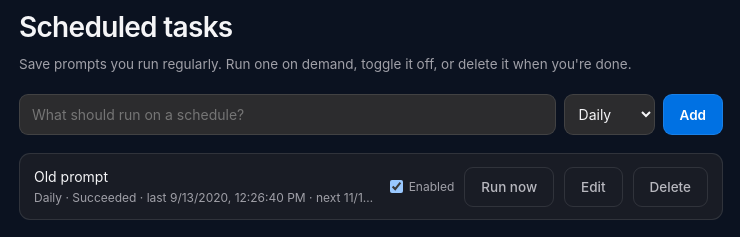
Test: ScheduledView › edits a task via update_scheduled and reconciles
Expected: the text "Old prompt" is shown, [34, 168, 108, 185]
Step 1. Click the button "Edit" → click(593, 187), box [564, 167, 623, 207]
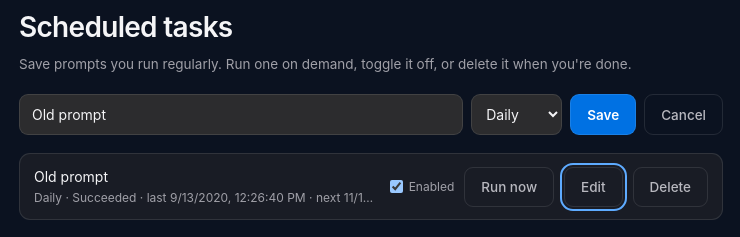
Step 2. Replace the text in the field with placeholder "What should run on a schedule?" with "New prompt" → (241, 115), box [19, 94, 463, 135]
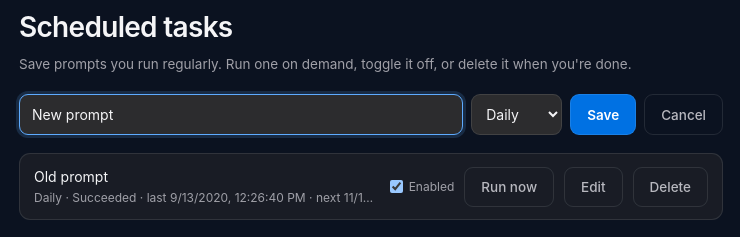
Step 3. Select "Weekly" in the dropdown named "cadence" → (517, 115), box [471, 94, 562, 135]
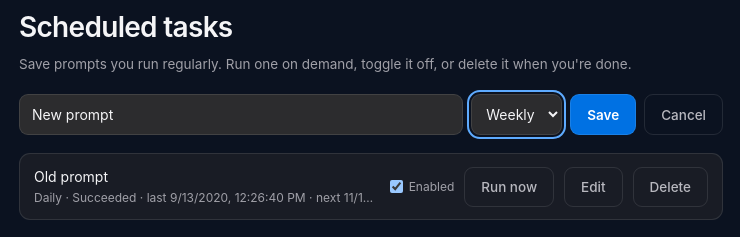
Step 4. Click the button "Save" → click(603, 115), box [570, 94, 636, 135]
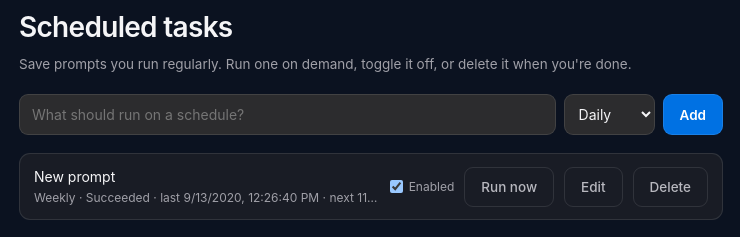
Expected: the text "New prompt" is shown, [34, 168, 115, 185]
Expected: the text "Old prompt" is gone
